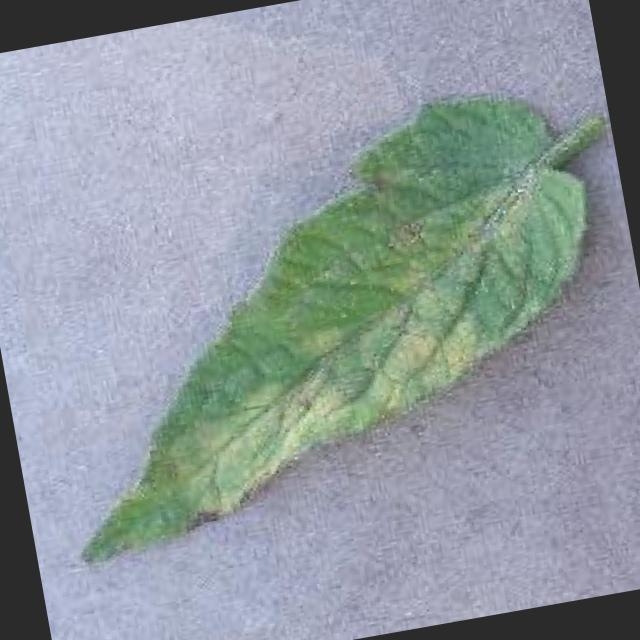leaf mold: (82, 94, 602, 562)
